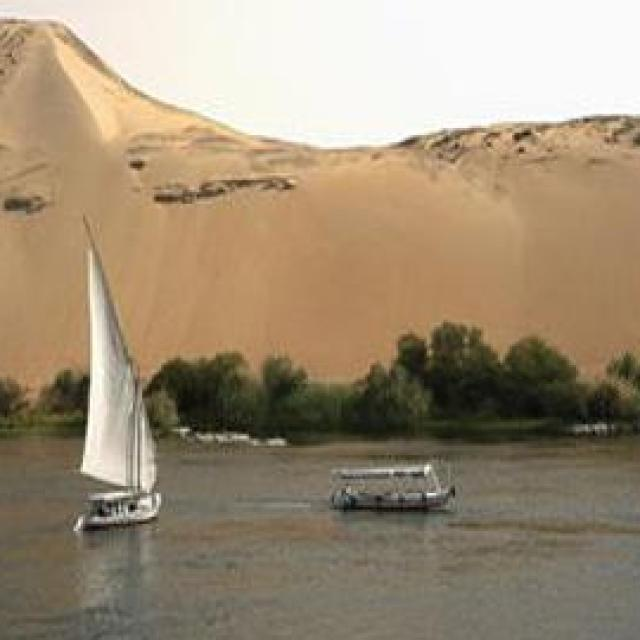houseboat: (330, 456, 467, 508)
sailboat: (35, 207, 182, 545)
